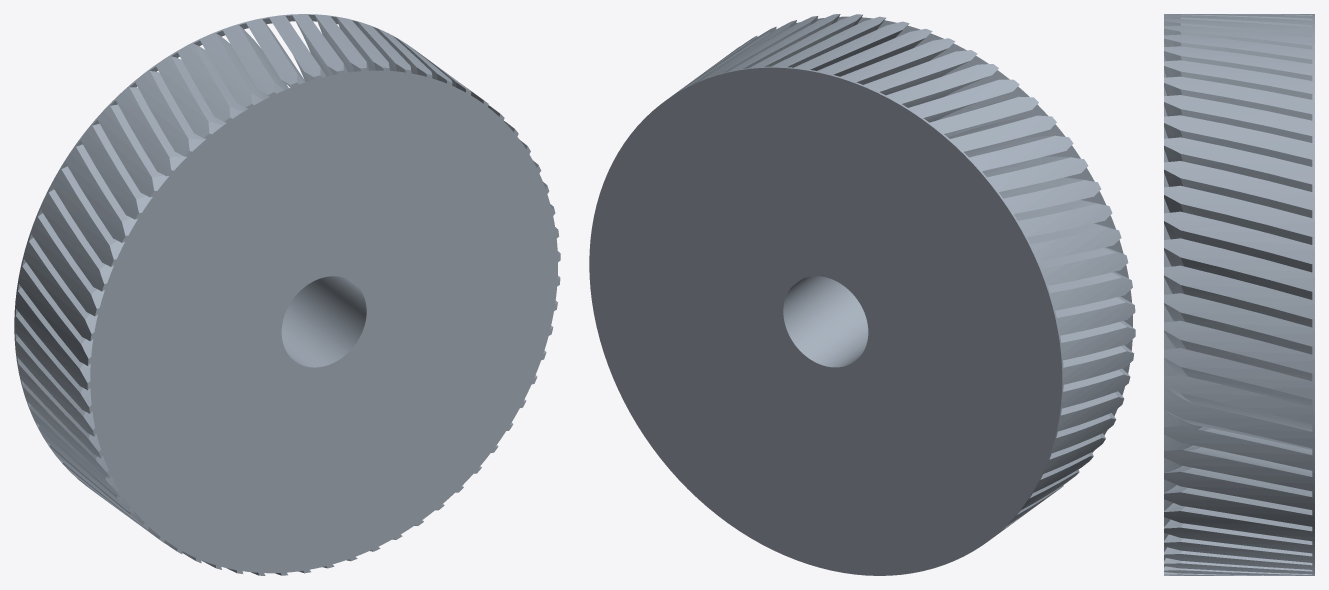
The model's file is opus.glb.
3 views of the same model, side by side, from view 1: azimuth 30°, elevation 25°; view 2: azimuth 150°, elevation 25°; view 3: azimuth 270°, elevation 25° (orthographic). The views are drawn at different scales.
Parts seen in each view (by area): view 1: opus.tmp.stl; view 2: opus.tmp.stl; view 3: opus.tmp.stl.
Part boxes in pixels (x1,y1,x2,y2): opus.tmp.stl: (14, 14, 560, 575); opus.tmp.stl: (589, 14, 1135, 575); opus.tmp.stl: (1164, 14, 1314, 575).
Bounding box in the file's own units: 540 × 540 × 145.
